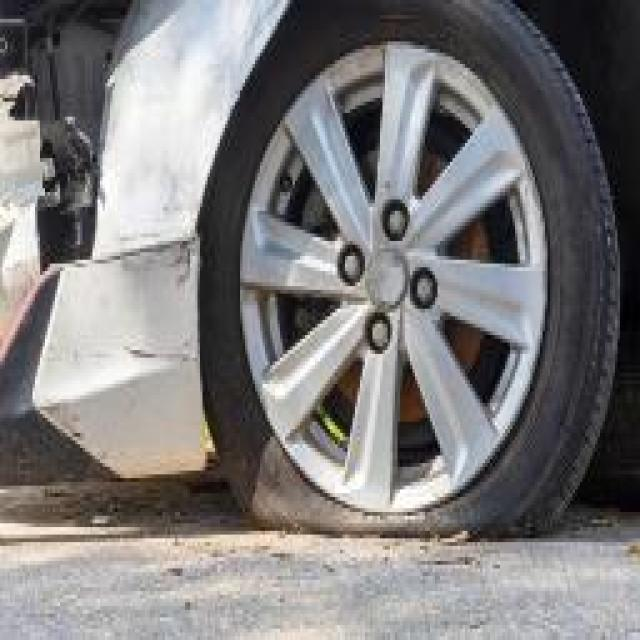Bumper: (0, 8, 215, 452)
